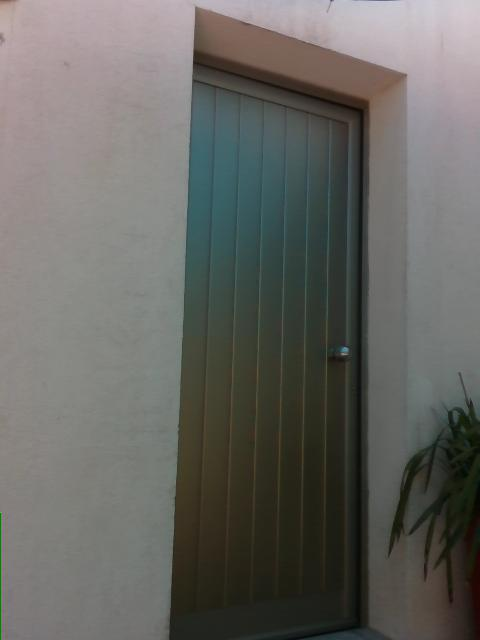door: (165, 7, 412, 639)
